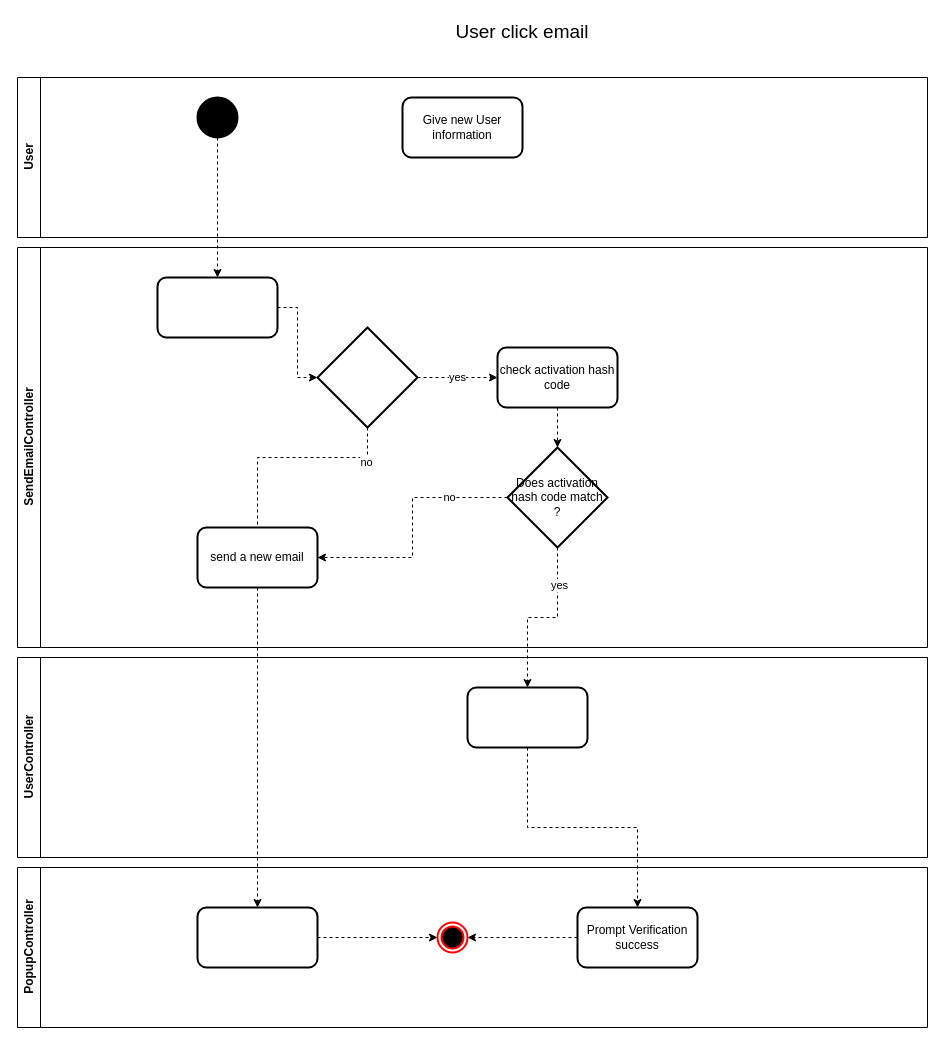
This 945x1045 diagram has some shape labels left out. Each missing label, with the centre of its shape:
Compare email live time: (217,307)
Is email still valid?: (367,377)
Mark user status activating: (527,717)
Open Email and click url: (217,117)
Prompt Email is invalid wait for new email: (257,937)
